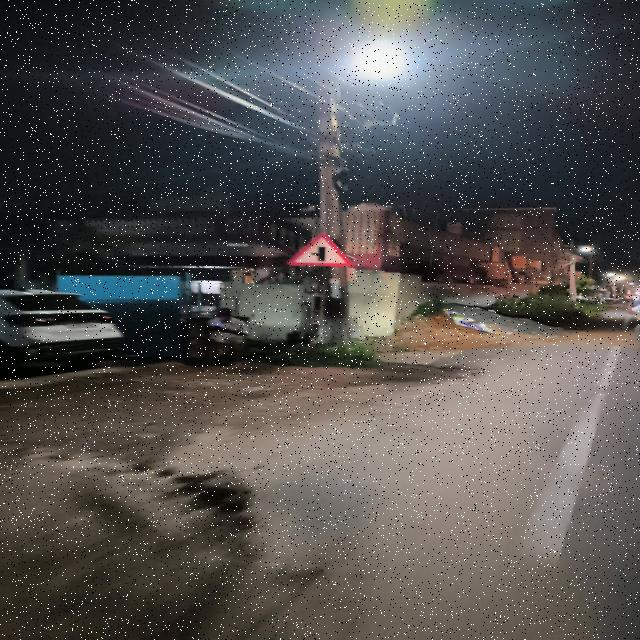Sideroad_toleft: (287, 234, 360, 270)
